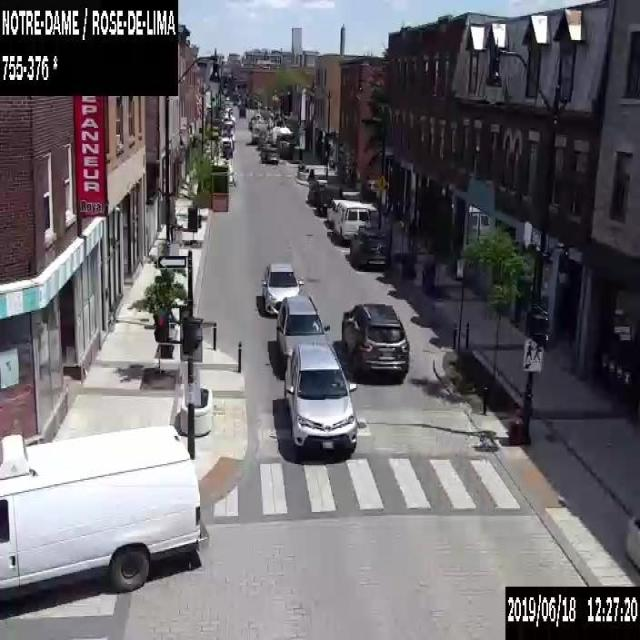vehicle: (0, 423, 210, 601), (283, 342, 355, 455), (340, 302, 408, 379), (276, 296, 330, 370), (260, 262, 304, 312), (349, 226, 388, 268), (332, 201, 370, 243), (316, 184, 341, 216), (306, 178, 328, 204), (261, 147, 277, 164), (327, 198, 336, 220), (238, 106, 246, 117)
